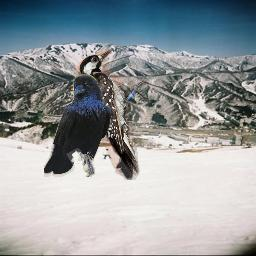Crow: (44, 74, 111, 177)
Woodpecker: (70, 44, 158, 180)
